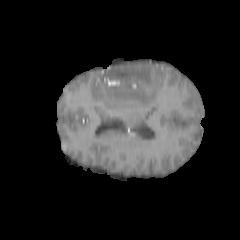glioma: (108, 62, 159, 109)
